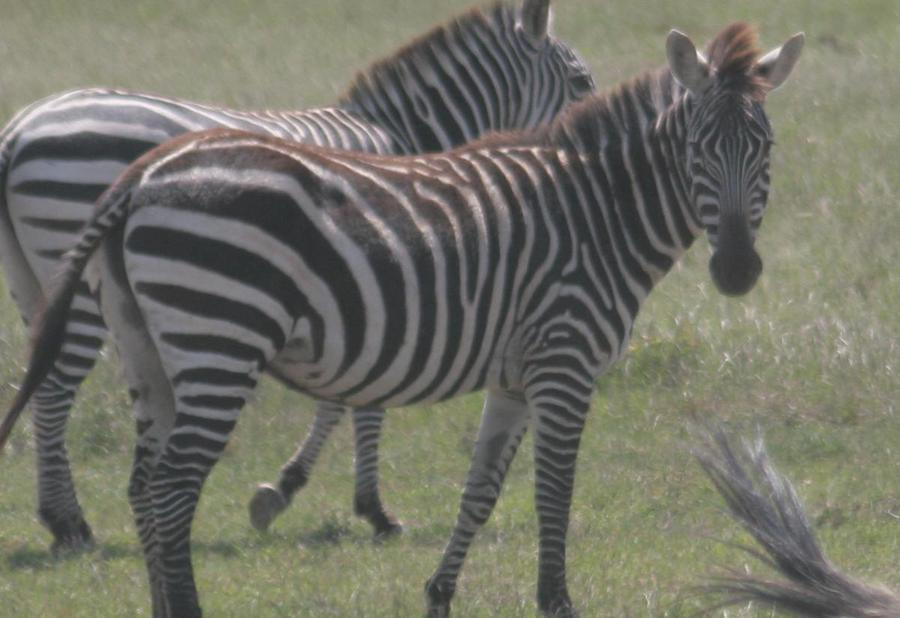zebra_plains: (97, 76, 671, 450)
